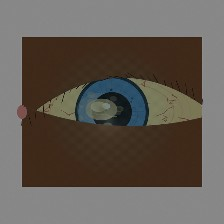corneal_ulcer: (76, 89, 127, 130)
